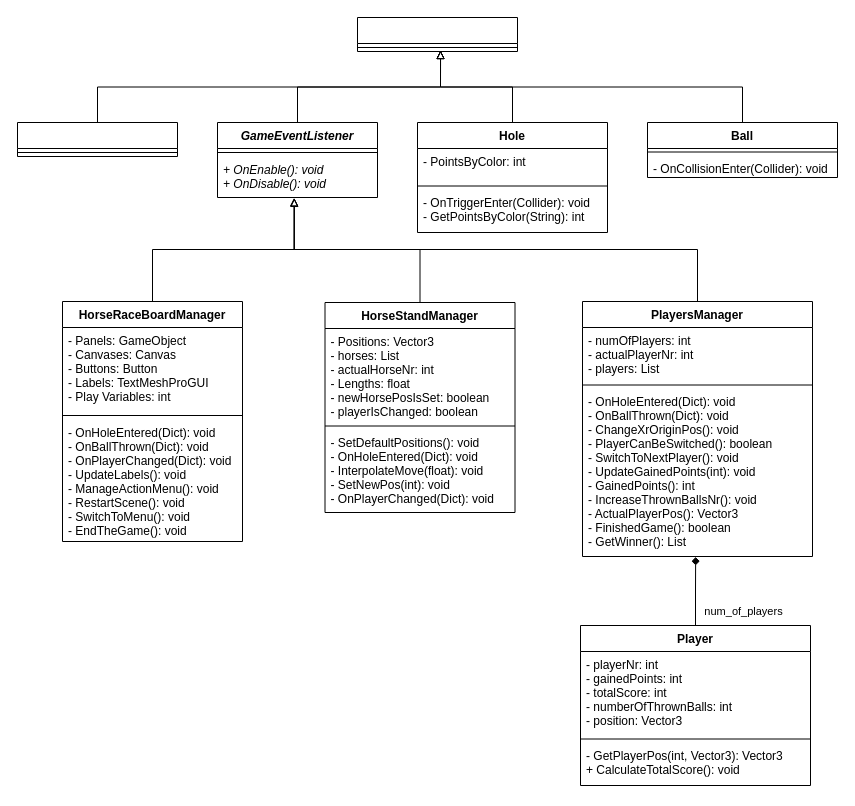
This 855x806 diagram has some shape labels left out. The centre of each missing label's shape, as x and y in pixels:
EventManager: [97,139]
MonoBehaviour: [437,34]
